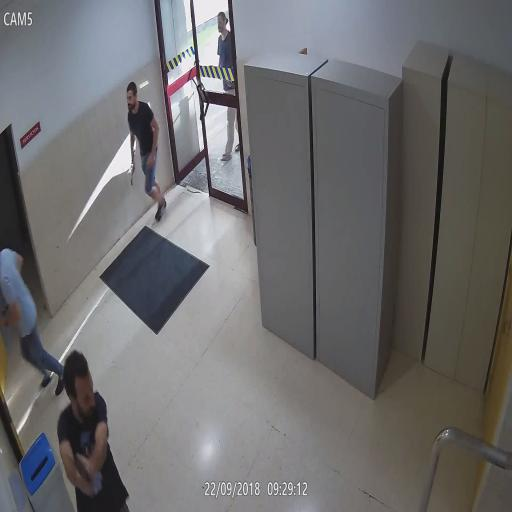Handgun: (72, 453, 97, 498), (130, 158, 136, 188)
